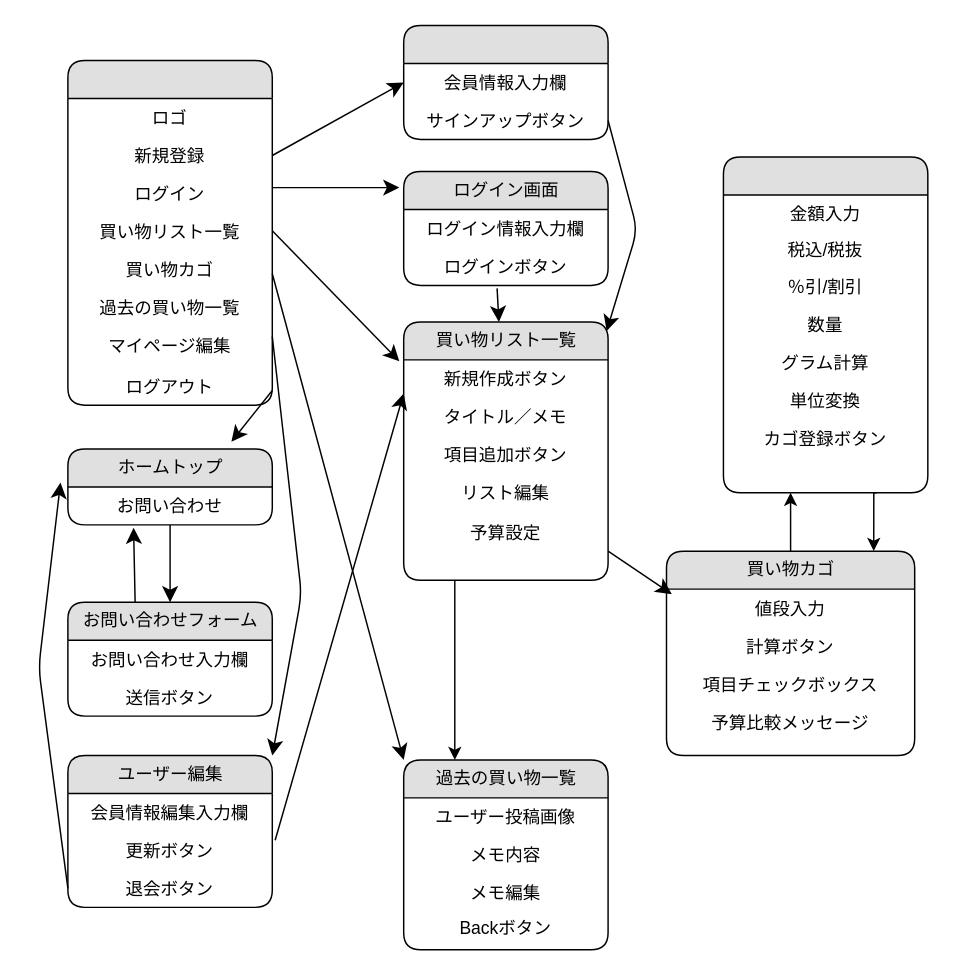
The diagram is 953 pixels wide and 977 high, and some of its shapes have lost their labels. The shapes that lost their labels are listed below. From the top down, each one's box as (x1, y1, x2, y2) in pixels, then its label:
(402, 24, 608, 139): 新規登録画面
(66, 59, 272, 405): ヘッダー
(722, 155, 928, 493): 計算ツール
